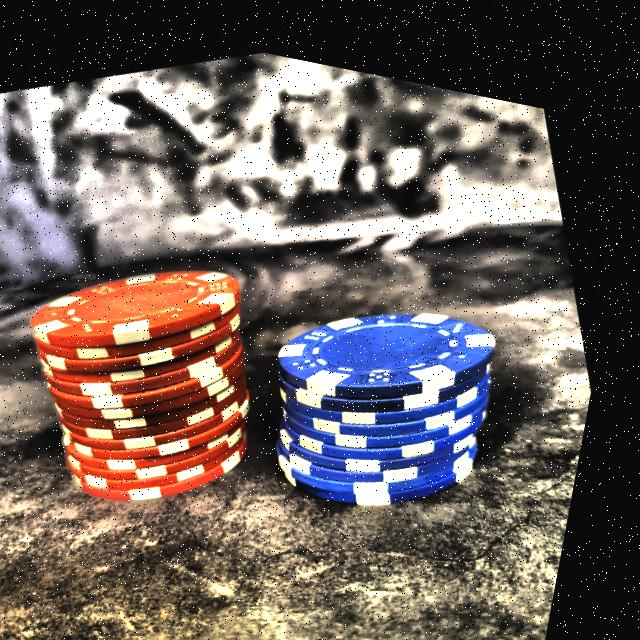Chip: (0, 183, 330, 562), (228, 222, 572, 558)
